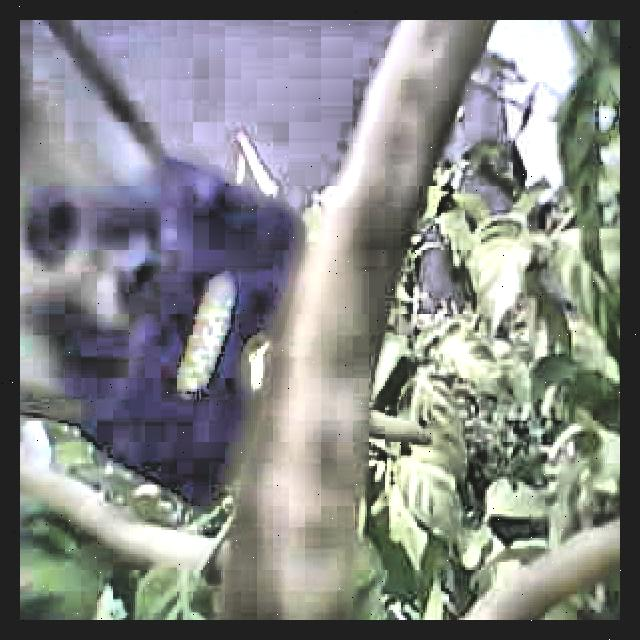Cabai: (274, 20, 494, 620), (465, 505, 620, 620)
